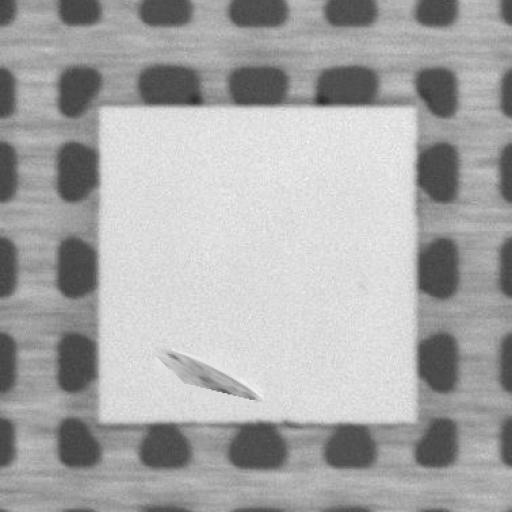DIE_INK: (148, 344, 264, 404)
